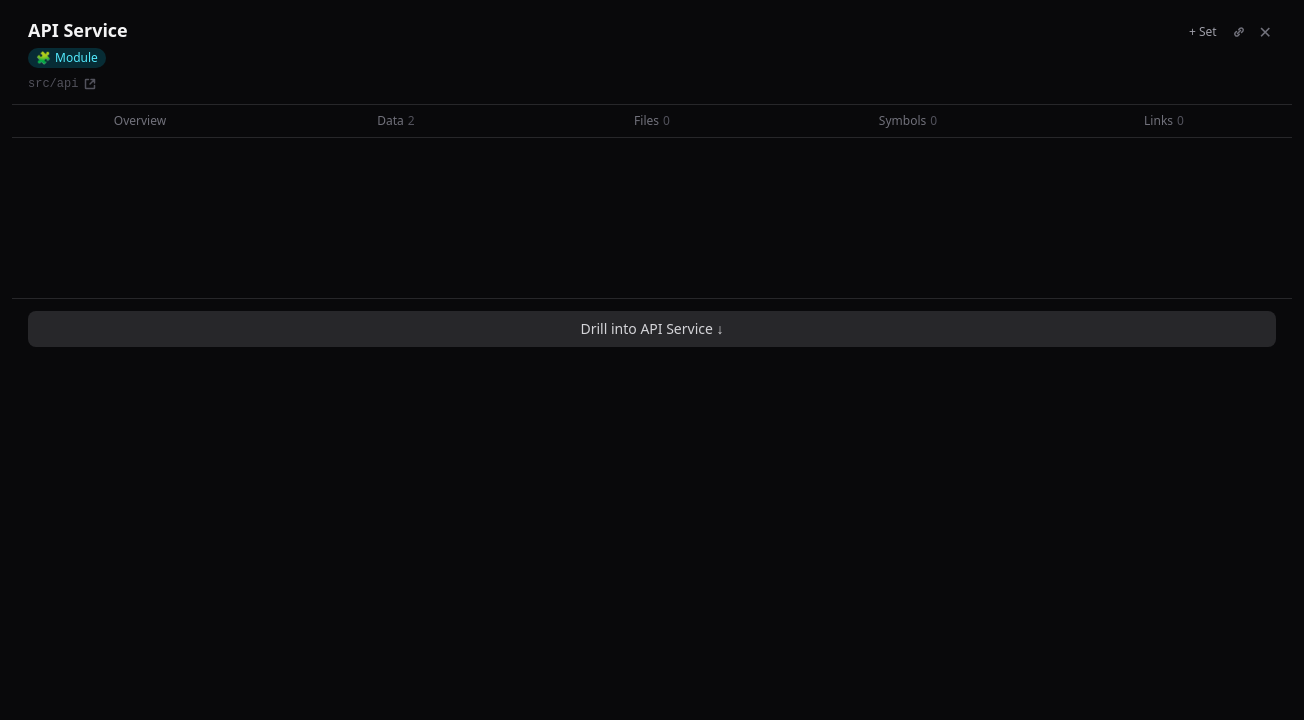
Test case: P5-3 Data tab › lists owned entities ranked by kind with kind badges, fields, and evidence links
Click the button "Data2". click: {"x": 396, "y": 121}
box: x1=268 y1=105 x2=524 y2=137
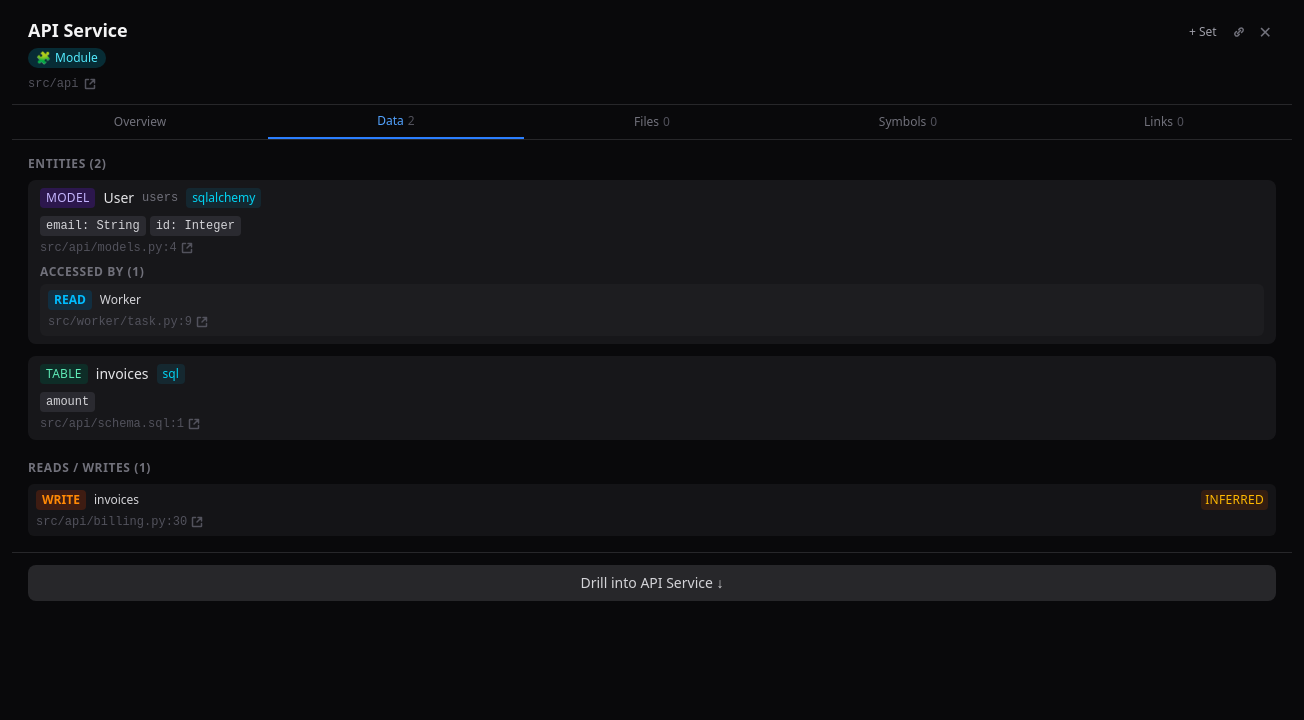
expect the text "model" is shown: met, box x1=40 y1=188 x2=96 y2=208
expect the text "table" is shown: met, box x1=40 y1=364 x2=88 y2=384
expect the text "email: String" is shown: met, box x1=40 y1=216 x2=146 y2=236
